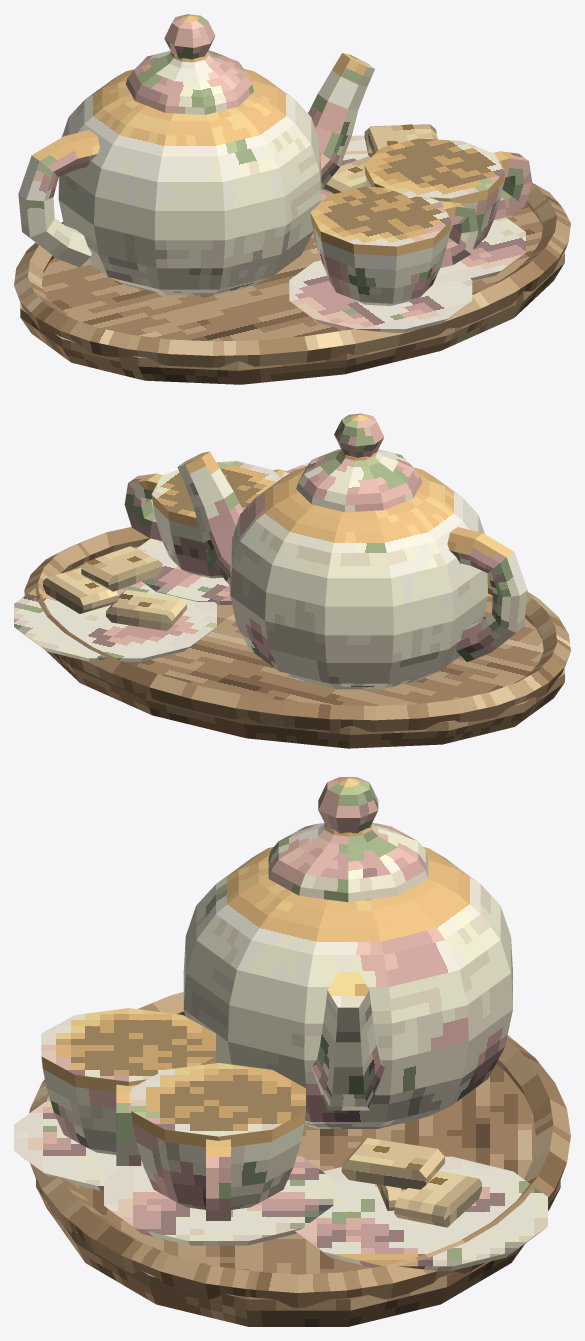
File: rose_tea_set.glb
The picture shows the model from 3 angles, top to bottom: view 1: azimuth 30°, elevation 25°; view 2: azimuth 150°, elevation 25°; view 3: azimuth 270°, elevation 25°; orthographic projection. The views are drawn at different scales.
Parts seen in each view (by area): view 1: static; view 2: static; view 3: static.
Part boxes in pixels (box(x1,y1,x2,y2)): static: box(14, 14, 570, 384); static: box(14, 413, 570, 748); static: box(14, 777, 570, 1326).
Bounding box in the file's own units: 0.9312 × 0.4844 × 0.6975.
1 material, 1 textured.
